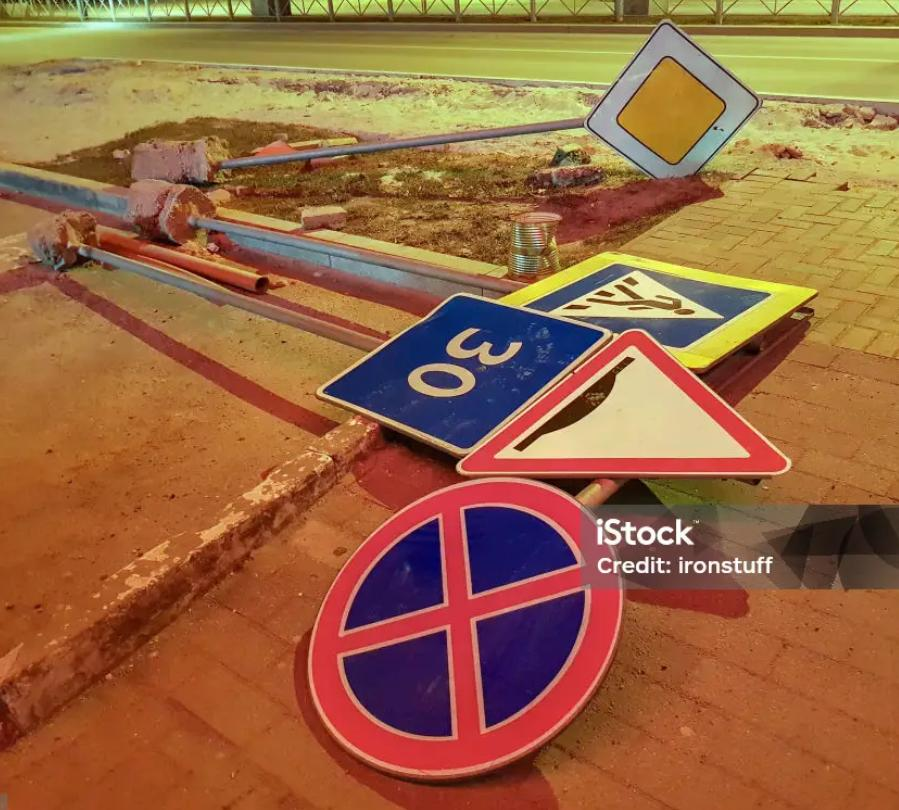road_sign: (308, 476, 622, 778), (458, 330, 790, 473), (318, 293, 609, 454), (496, 251, 819, 369), (584, 20, 761, 177)
